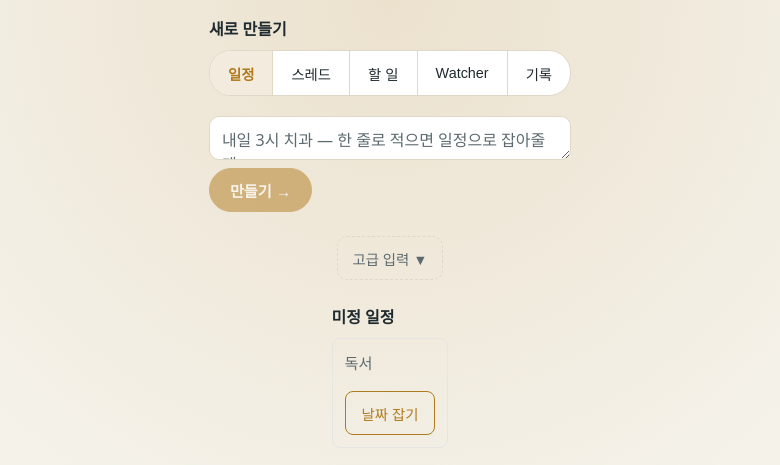
InputHub — unscheduled events › loads slot candidates when 날짜 잡기 clicked
Expected: the element with test id "input-live" is shown, [209, 18, 571, 448]
Click the button with aria-label "독서 날짜 잡기" at [390, 413], box [344, 391, 436, 435]
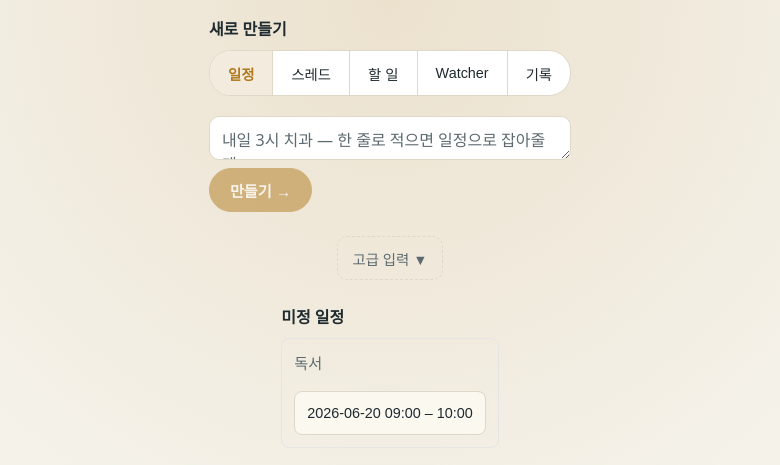
Now the button "2026-06-20 09:00 – 10:00" is shown, box [294, 391, 486, 435]
